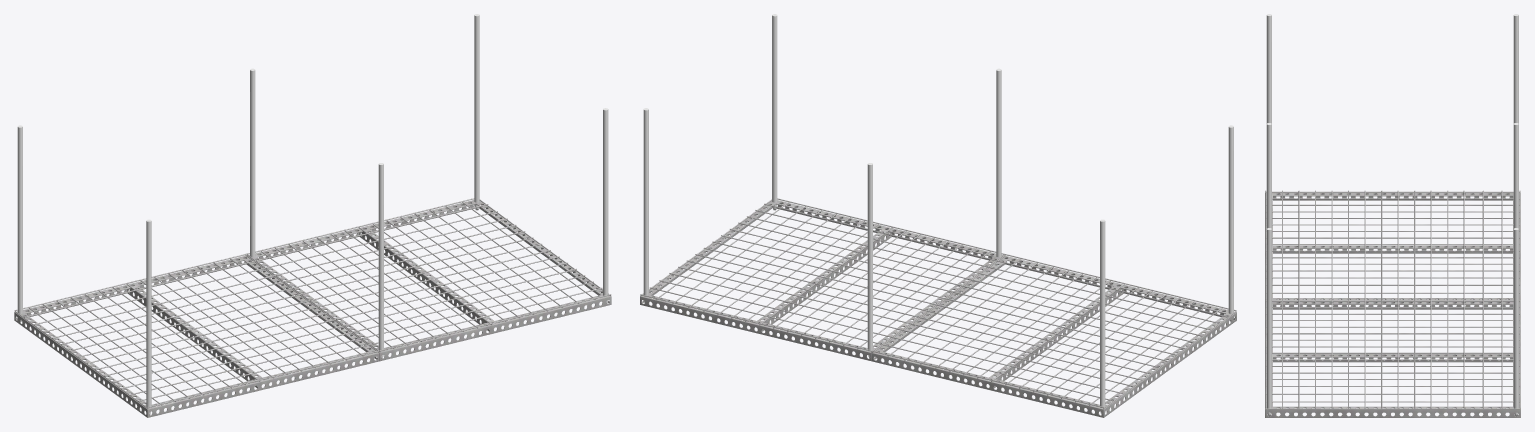
3 renders of one model, left to right at view 1: azimuth 30°, elevation 25°; view 2: azimuth 150°, elevation 25°; view 3: azimuth 270°, elevation 25°, orthographic. The views are drawn at different scales.
Parts seen in each view (by area): view 1: Grill2, Rods2; view 2: Grill2, Rods2; view 3: Grill2, Rods2.
Boxes of the visible parts, left/top/right/bottom form: Grill2: left=14, top=198, right=611, bottom=417; Rods2: left=17, top=14, right=608, bottom=414; Grill2: left=640, top=198, right=1236, bottom=417; Rods2: left=643, top=14, right=1233, bottom=415; Grill2: left=1265, top=190, right=1520, bottom=417; Rods2: left=1266, top=14, right=1518, bottom=416.
Size of the model in its own units: 62.24 by 24.99 by 30.94.
Materials: 2 (2 with a texture image).
